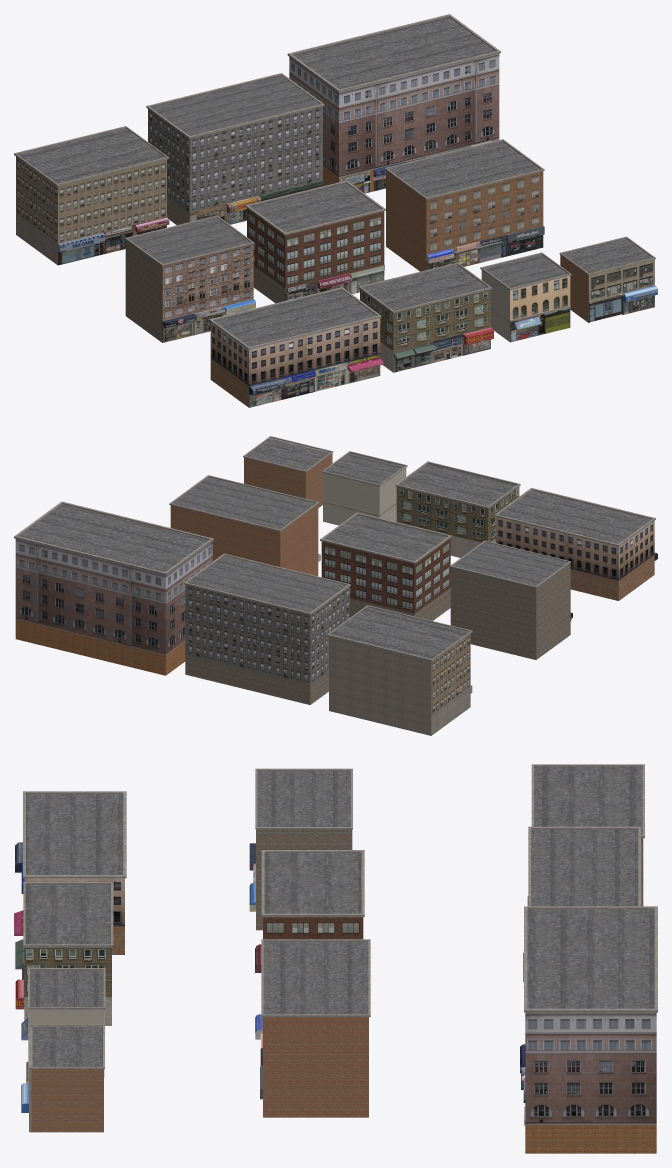
File: buildings_lite.glb
3 views of the same model, one above another, from view 1: azimuth 30°, elevation 25°; view 2: azimuth 150°, elevation 25°; view 3: azimuth 270°, elevation 25° (orthographic). The views are drawn at different scales.
Parts seen in each view (by area): view 1: Building_02, Building_01, Building_05, Building, Building_06, Building_04, Building_03, Building_07, Building_09, Building_08; view 2: Building_02, Building_01, Building, Building_03, Building_06, Building_04, Building_05, Building_07, Building_08, Building_09; view 3: Building_02, Building_05, Building_06, Building_04, Building_01, Building_03, Building_07, Building_09, Building, Building_08.
Boxes of the visible parts, box(x1,y1,x2,y2) form: Building_02: box(287, 14, 500, 193); Building_01: box(146, 73, 324, 224); Building_05: box(384, 139, 544, 271); Building: box(14, 126, 169, 265); Building_06: box(209, 287, 384, 407); Building_04: box(245, 180, 385, 303); Building_03: box(125, 215, 255, 342); Building_07: box(358, 262, 493, 372); Building_09: box(559, 236, 657, 323); Building_08: box(480, 252, 571, 342); Building_02: box(14, 501, 213, 675); Building_01: box(183, 553, 350, 704); Building: box(327, 605, 472, 735); Building_03: box(450, 540, 572, 659); Building_06: box(494, 488, 657, 600); Building_04: box(320, 512, 451, 620); Building_05: box(169, 475, 320, 576); Building_07: box(395, 461, 520, 557); Building_08: box(322, 451, 407, 525); Building_09: box(243, 436, 333, 507); Building_02: box(520, 906, 657, 1153); Building_05: box(255, 939, 370, 1117); Building_06: box(14, 791, 126, 954); Building_04: box(255, 850, 364, 972); Building_01: box(523, 826, 640, 981); Building_03: box(249, 768, 352, 930); Building_07: box(15, 882, 113, 1025); Building_09: box(21, 1024, 104, 1132); Building: box(527, 764, 644, 906); Building_08: box(21, 968, 105, 1077).
Size of the model in its own units: 111 by 26.34 by 107.
Materials: 52 (52 with a texture image).
